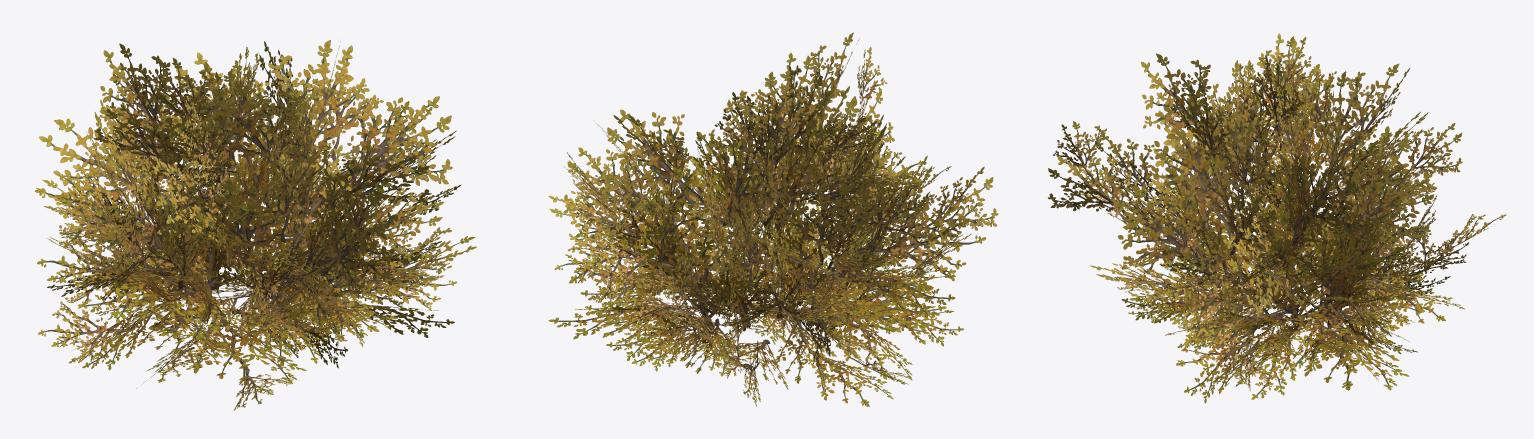
The model's file is Yland1_yz_07 Yland1.FBX.
3 renders of one model, left to right at view 1: azimuth 30°, elevation 25°; view 2: azimuth 150°, elevation 25°; view 3: azimuth 270°, elevation 25°, orthographic. The views are drawn at different scales.
Parts seen in each view (by area): view 1: Yland1_yz_07 Yland1; view 2: Yland1_yz_07 Yland1; view 3: Yland1_yz_07 Yland1.
Boxes of the visible parts, x1,y1,x2,y2 form: Yland1_yz_07 Yland1: [35, 40, 476, 410]; Yland1_yz_07 Yland1: [548, 32, 998, 406]; Yland1_yz_07 Yland1: [1048, 33, 1506, 403].
Size of the model in its own units: 6.26 by 4.57 by 6.34.
